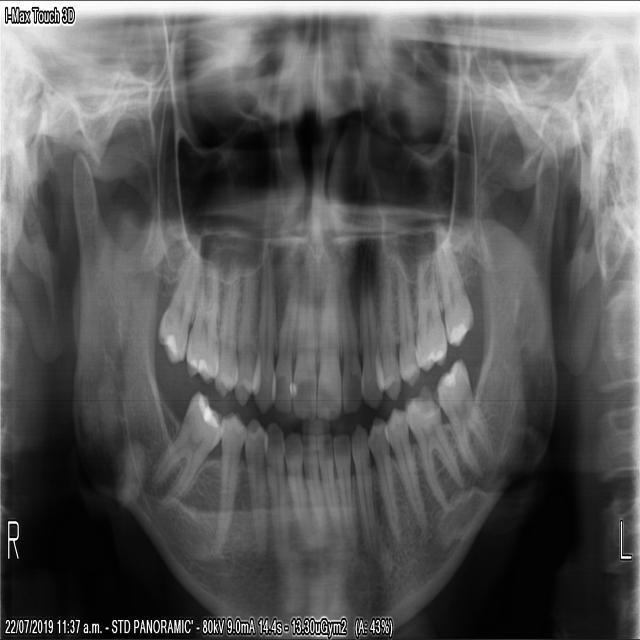LCD: (348, 415, 379, 552)
LCU: (356, 252, 384, 410)
LID: (330, 425, 356, 555), (313, 429, 341, 540)
LIU: (313, 275, 342, 425), (338, 276, 364, 419)
LMD: (399, 379, 465, 518), (431, 350, 494, 486)
LMU: (431, 219, 474, 351), (412, 247, 446, 374)
LPMD: (381, 400, 428, 537), (365, 408, 403, 547)
LPMU: (373, 251, 401, 403), (392, 247, 420, 391)
RCD: (260, 415, 290, 568)
RCU: (248, 243, 276, 418)
RID: (279, 426, 315, 550), (299, 427, 326, 536)
RIU: (268, 267, 300, 419), (289, 260, 316, 424)
RMD: (146, 385, 223, 512)
RMU: (154, 242, 198, 370), (181, 254, 221, 388)
RPMD: (206, 404, 245, 562), (240, 410, 268, 557)
RPMU: (210, 244, 243, 403), (230, 251, 261, 410)
